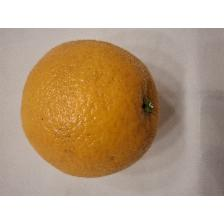Orange: (20, 38, 162, 180)
